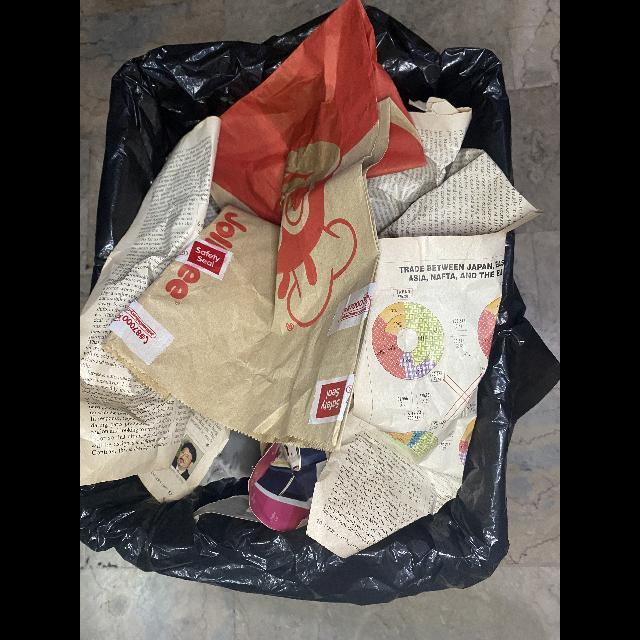paper: (106, 0, 428, 457), (80, 117, 260, 504), (306, 233, 506, 560), (367, 97, 544, 239)
